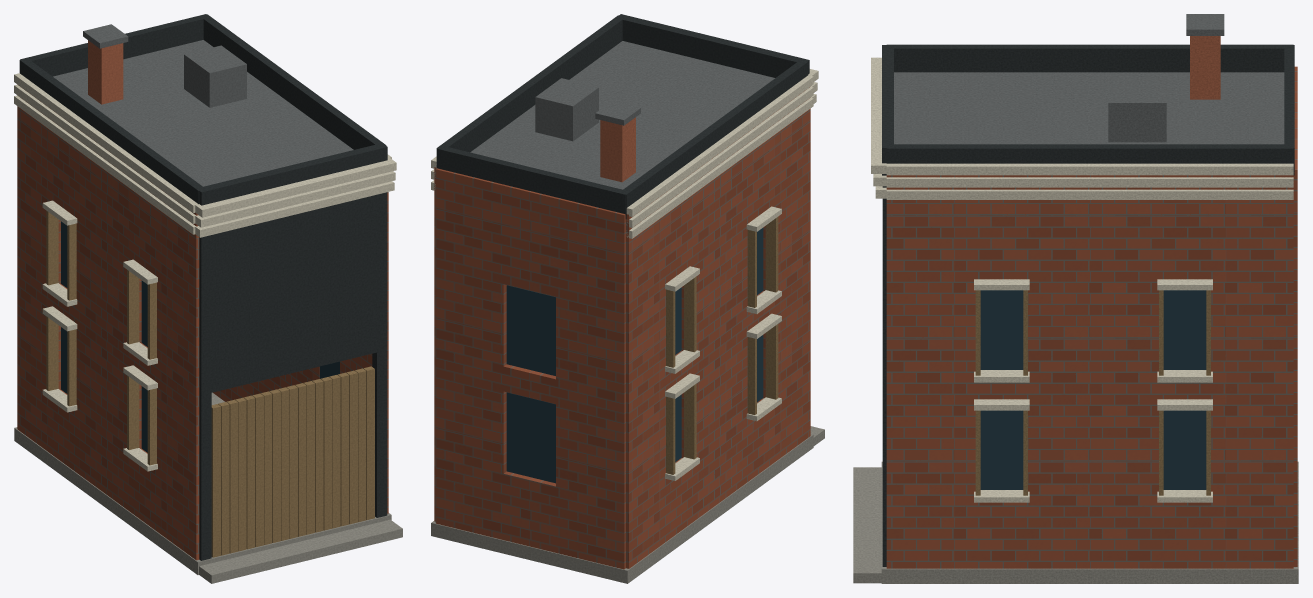
The model's file is WRHS5_lod2.glb.
3 views of the same model, side by side, from view 1: azimuth 30°, elevation 25°; view 2: azimuth 150°, elevation 25°; view 3: azimuth 270°, elevation 25° (orthographic). The views are drawn at different scales.
Visible parts, largest first — view 1: WRHS5_LOD2; view 2: WRHS5_LOD2; view 3: WRHS5_LOD2.
Part boxes in pixels (x1=…): WRHS5_LOD2: x1=14, y1=14, x2=402, y2=583; WRHS5_LOD2: x1=431, y1=14, x2=824, y2=583; WRHS5_LOD2: x1=853, y1=14, x2=1298, y2=583.
Bounding box in the file's own units: 4.11 × 7.85 × 6.57.
8 materials, 7 textured.
